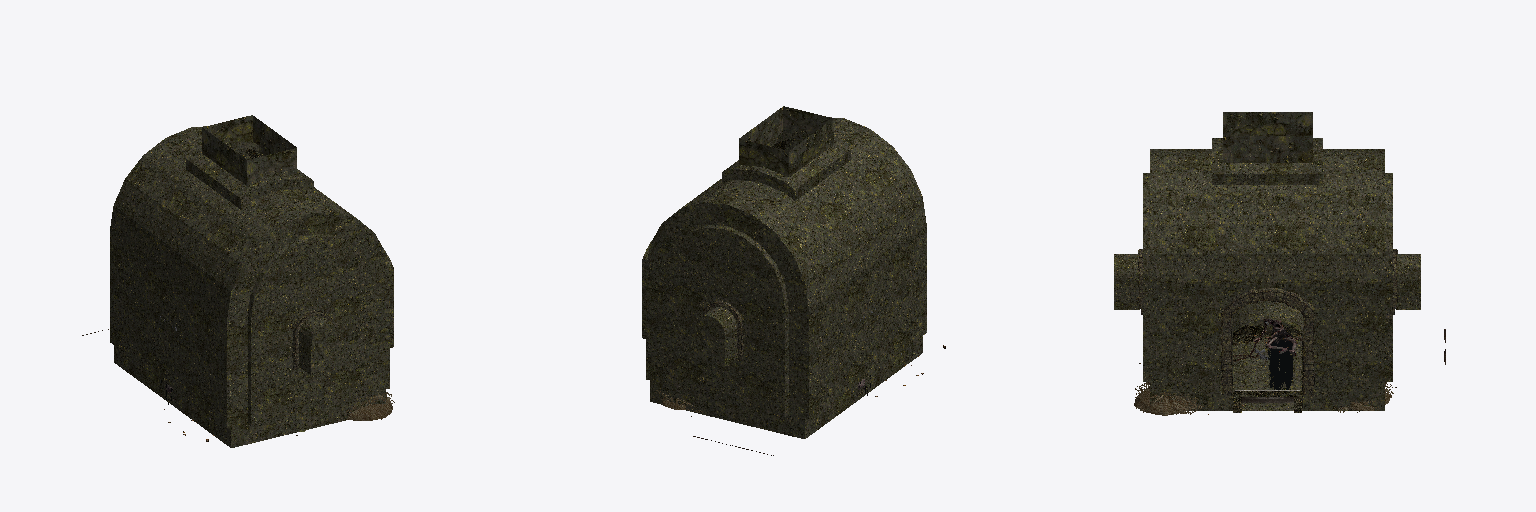
The picture shows the model from 3 angles: view 1: azimuth 30°, elevation 25°; view 2: azimuth 150°, elevation 25°; view 3: azimuth 270°, elevation 25°; orthographic projection.
Parts seen in each view (by area): view 1: mesh7, mesh3, mesh15; view 2: mesh7, mesh3; view 3: mesh7, mesh3, mesh5, mesh9, mesh15, mesh18, mesh11.
Part boxes in pixels (x1,y1,x2,y2): mesh7: (110, 126, 393, 427); mesh3: (114, 115, 389, 447); mesh15: (330, 392, 394, 423); mesh7: (642, 117, 926, 418); mesh3: (646, 106, 922, 438); mesh7: (1114, 149, 1420, 391); mesh3: (1143, 112, 1392, 410); mesh5: (1138, 249, 1397, 394); mesh9: (1233, 337, 1302, 410); mesh15: (1134, 382, 1393, 415); mesh18: (1233, 325, 1302, 412); mesh11: (1268, 325, 1293, 389).
Size of the model in its own units: 5.6 by 5.91 by 7.05.
19 materials, 14 textured.